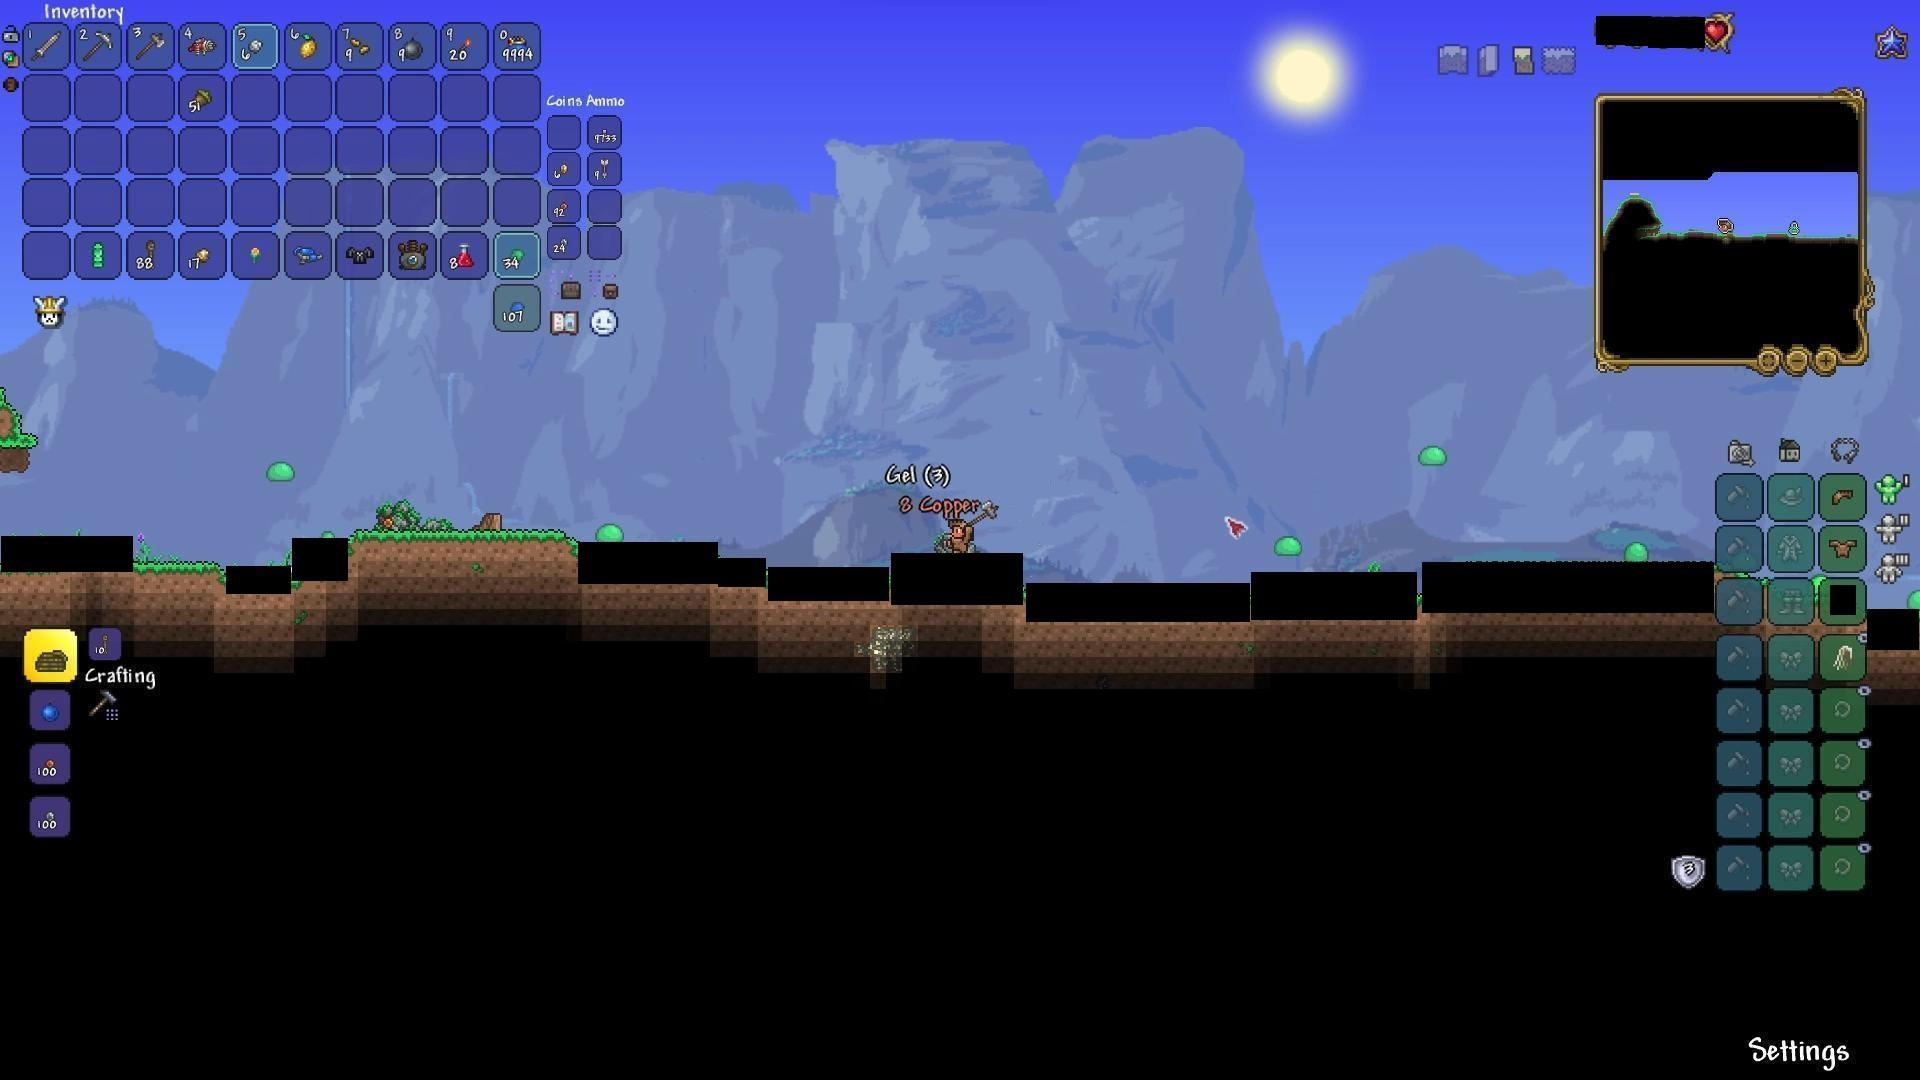breastplate: (1829, 535, 1859, 556)
dirt: (349, 520, 580, 574), (135, 556, 220, 583), (3, 390, 38, 450)
heart: (1704, 18, 1730, 47)
helmet: (1826, 483, 1858, 510)
slime: (1270, 533, 1303, 560), (593, 521, 626, 546), (1418, 443, 1448, 468), (265, 460, 295, 484), (1625, 539, 1651, 564), (1903, 589, 1920, 615)
